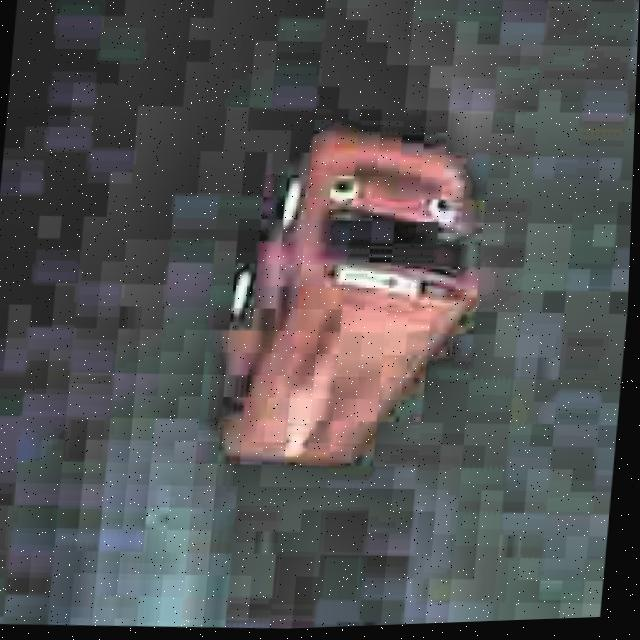bus: (201, 106, 510, 495)
